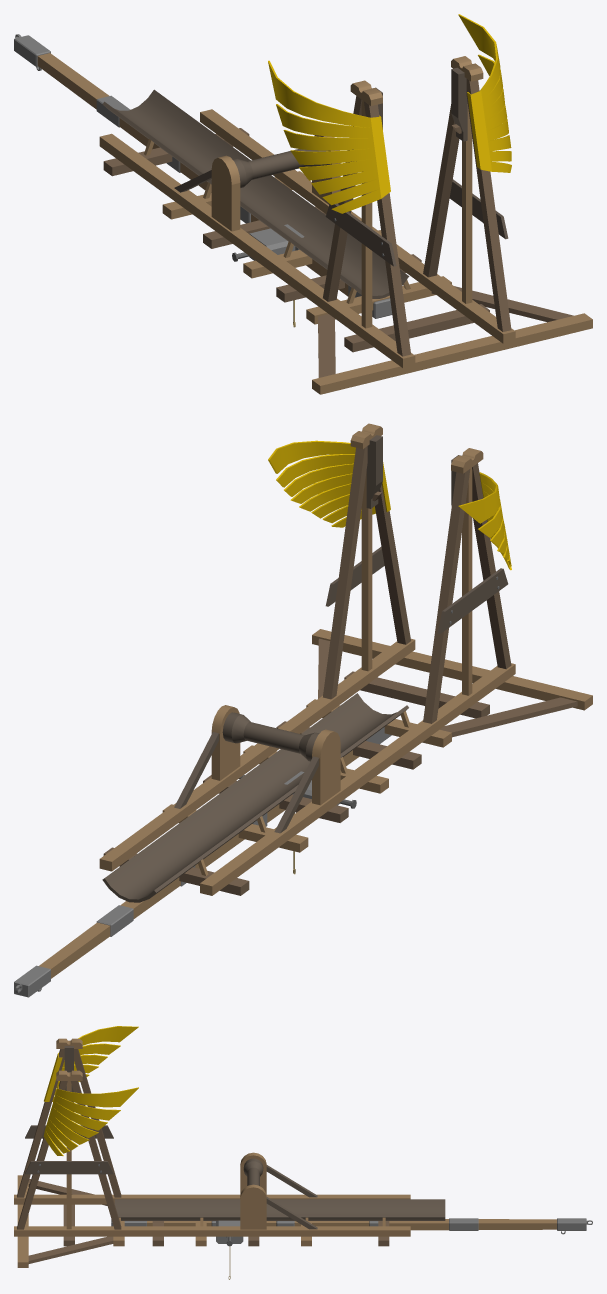
Rendered from Trebuchet_Rope_02.fbx.
The picture shows the model from 3 angles, top to bottom: view 1: azimuth 30°, elevation 25°; view 2: azimuth 150°, elevation 25°; view 3: azimuth 270°, elevation 25°; orthographic projection. The views are drawn at different scales.
Visible parts, largest first — view 1: Trebuchet_Base, Trebuchet_Arm; view 2: Trebuchet_Base, Trebuchet_Arm; view 3: Trebuchet_Base, Trebuchet_Arm.
Part boxes in pixels (x1,y1,x2,y2): Trebuchet_Base: [99, 14, 592, 394]; Trebuchet_Arm: [14, 34, 392, 318]; Trebuchet_Base: [99, 423, 592, 902]; Trebuchet_Arm: [14, 727, 391, 997]; Trebuchet_Base: [14, 1026, 445, 1267]; Trebuchet_Arm: [111, 1218, 592, 1246].
Size of the model in its own units: 169 by 202 by 475.
